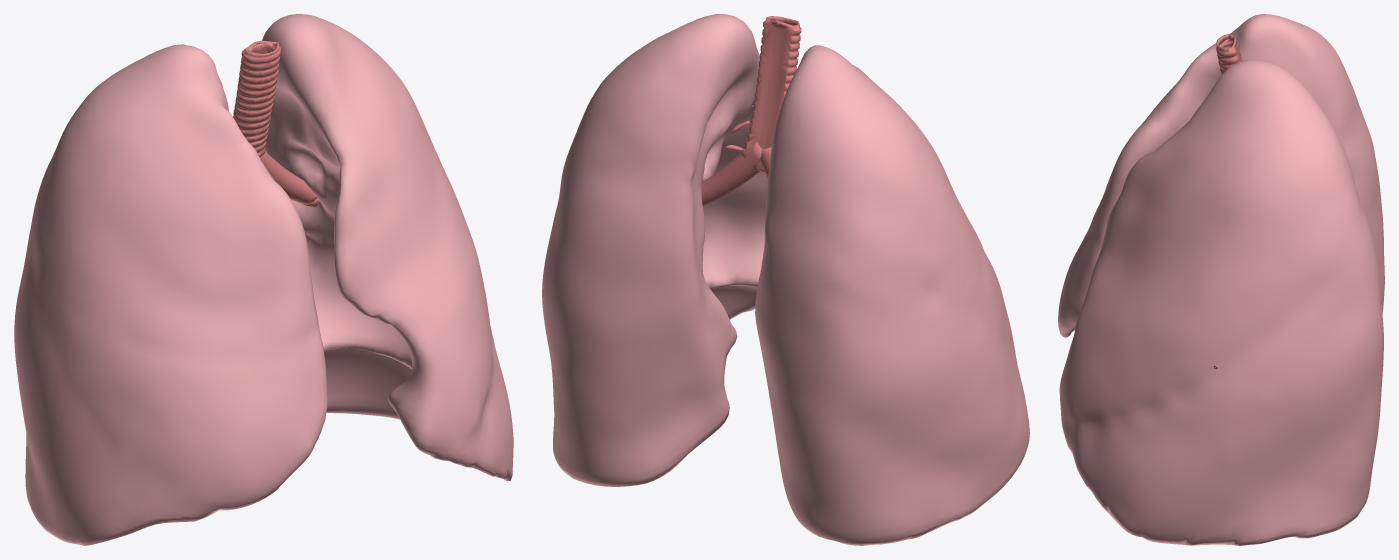
File: Lungs.glb
3 views of the same model, side by side, from view 1: azimuth 30°, elevation 25°; view 2: azimuth 150°, elevation 25°; view 3: azimuth 270°, elevation 25° (orthographic). The views are drawn at different scales.
Parts seen in each view (by area): view 1: Pleura, Veins; view 2: Pleura, Veins; view 3: Pleura, Veins.
Part boxes in pixels (bbox=[...]): Pleura: bbox=[14, 14, 513, 545]; Veins: bbox=[233, 40, 319, 207]; Pleura: bbox=[542, 14, 1029, 545]; Veins: bbox=[701, 16, 801, 206]; Pleura: bbox=[1058, 14, 1384, 545]; Veins: bbox=[1214, 34, 1242, 369].
Size of the model in its own units: 0.2863 by 0.2873 by 0.2044.
